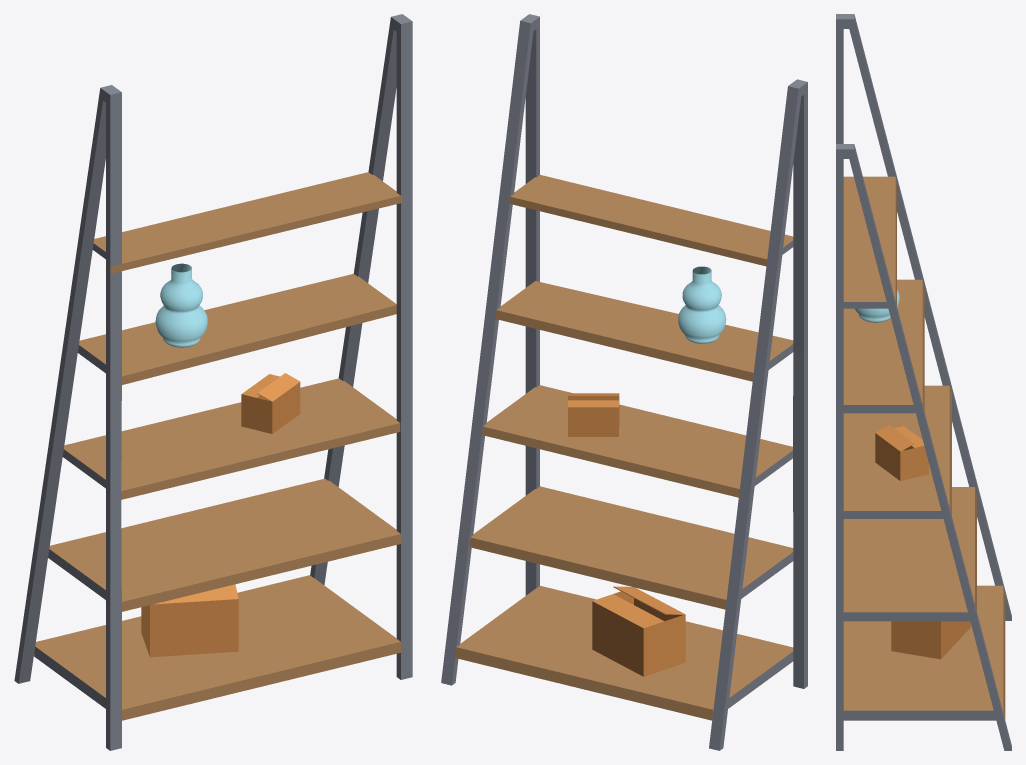
The model's file is bookshelf.fbx.
The picture shows the model from 3 angles, left to right: view 1: azimuth 30°, elevation 25°; view 2: azimuth 150°, elevation 25°; view 3: azimuth 270°, elevation 25°; orthographic projection. The views are drawn at different scales.
Parts seen in each view (by area): view 1: Cube.001, Cube, Cube.003, Cube.002; view 2: Cube.001, Cube, Cube.003, Cube.002; view 3: Cube.001, Cube, Cube.002, Cube.003.
Part boxes in pixels (x1=…): Cube.001: x1=14, y1=14, x2=412, y2=750; Cube: x1=141, y1=584, x2=238, y2=657; Cube.003: x1=155, y1=263, x2=207, y2=347; Cube.002: x1=241, y1=373, x2=300, y2=433; Cube.001: x1=441, y1=14, x2=807, y2=750; Cube: x1=592, y1=586, x2=685, y2=676; Cube.003: x1=678, y1=266, x2=726, y2=343; Cube.002: x1=568, y1=393, x2=619, y2=436; Cube.001: x1=836, y1=14, x2=1011, y2=750; Cube: x1=891, y1=621, x2=970, y2=659; Cube.002: x1=875, y1=425, x2=928, y2=480; Cube.003: x1=855, y1=290, x2=899, y2=322.
Bounding box in the file's own units: 151 × 312 × 82.74.
